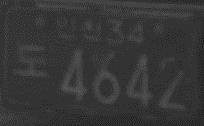2: (159, 56, 186, 110)
3: (104, 17, 122, 45)
4: (60, 49, 89, 99), (127, 54, 154, 106), (129, 22, 146, 45)
6: (93, 50, 121, 104)
도: (12, 42, 49, 78)
인천_O: (56, 14, 101, 42)
